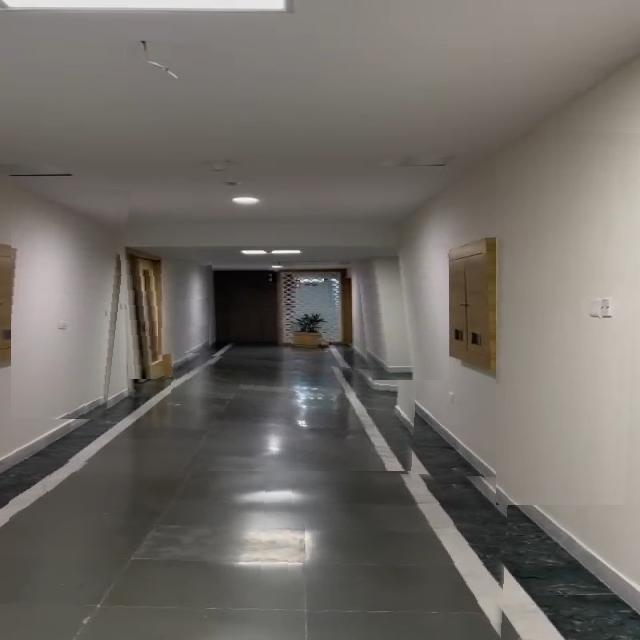door: (120, 252, 173, 379)
floor: (9, 459, 509, 640), (172, 352, 418, 471)
furniture: (286, 308, 332, 352)
wall: (496, 125, 640, 505), (12, 182, 132, 419), (356, 240, 450, 380), (158, 260, 212, 355)
